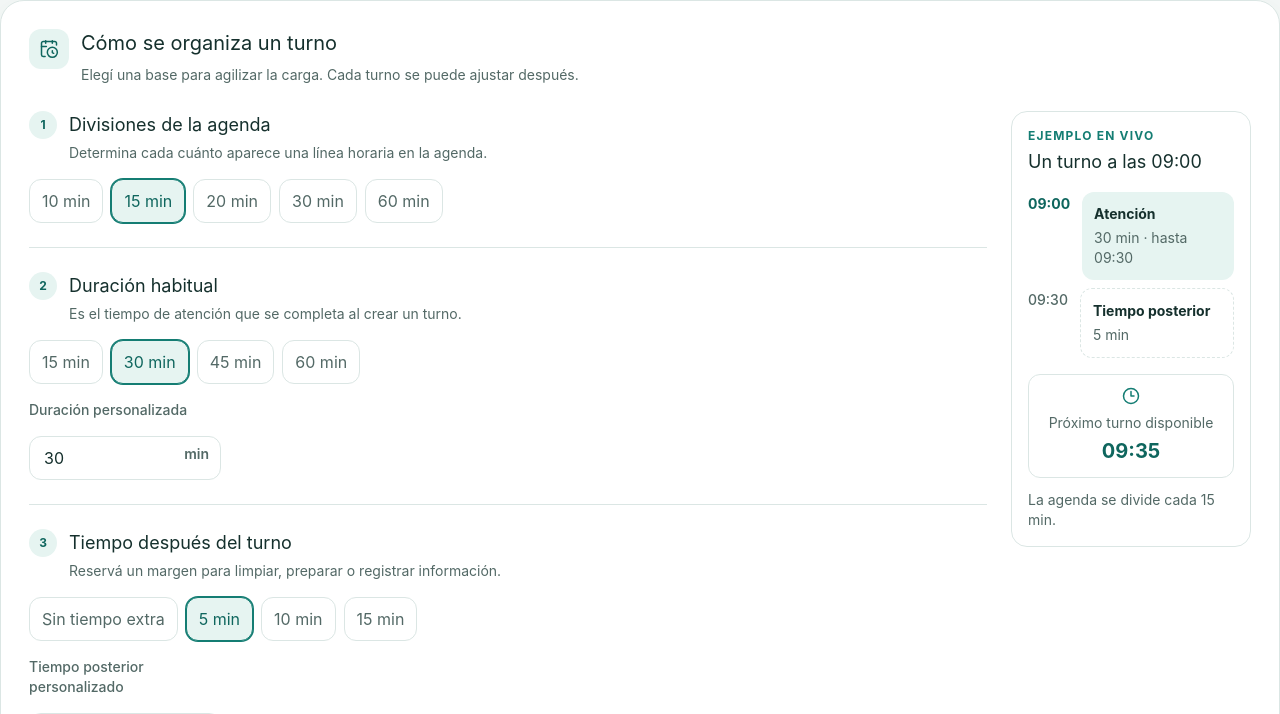
AgendaPreferencesForm › offers a clear option to remove the time between appointments
The width and height of the screenshot is (1280, 714).
Click the button with aria-label "Sin tiempo posterior" at (103,619), box [29,597,178,641]
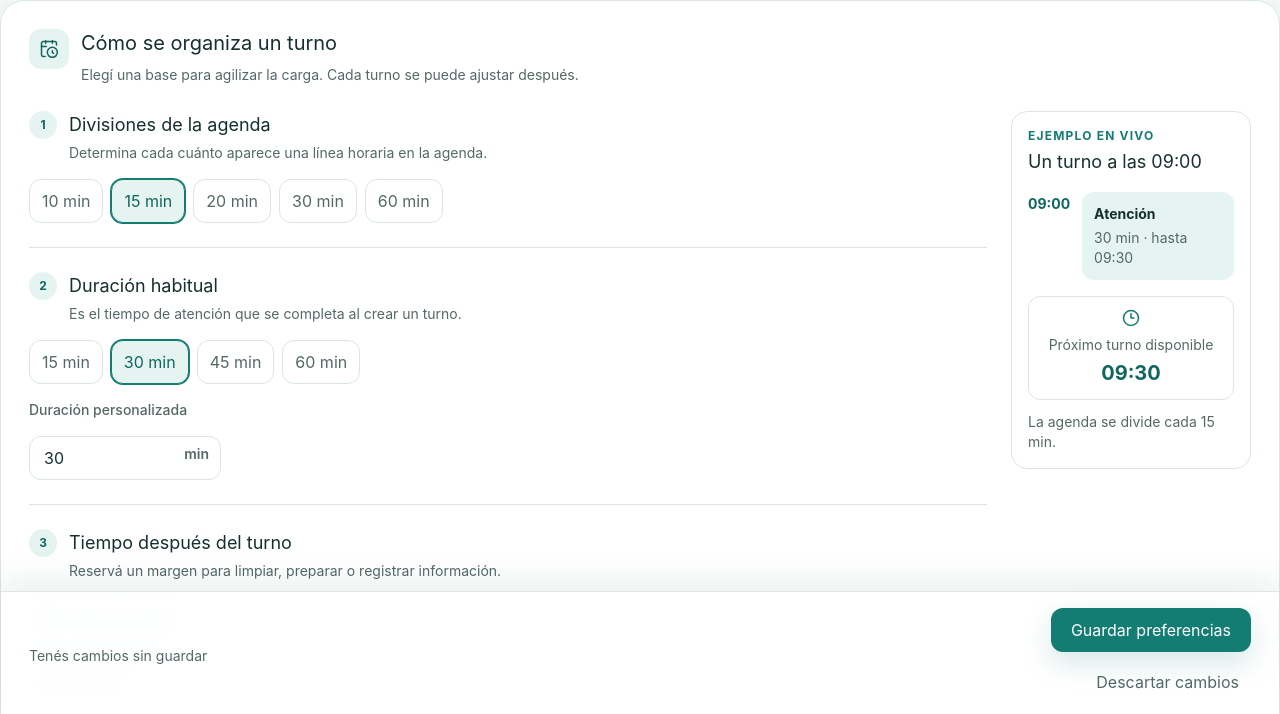
Result: the text "09:30" is shown at [1101,361,1161,385]
